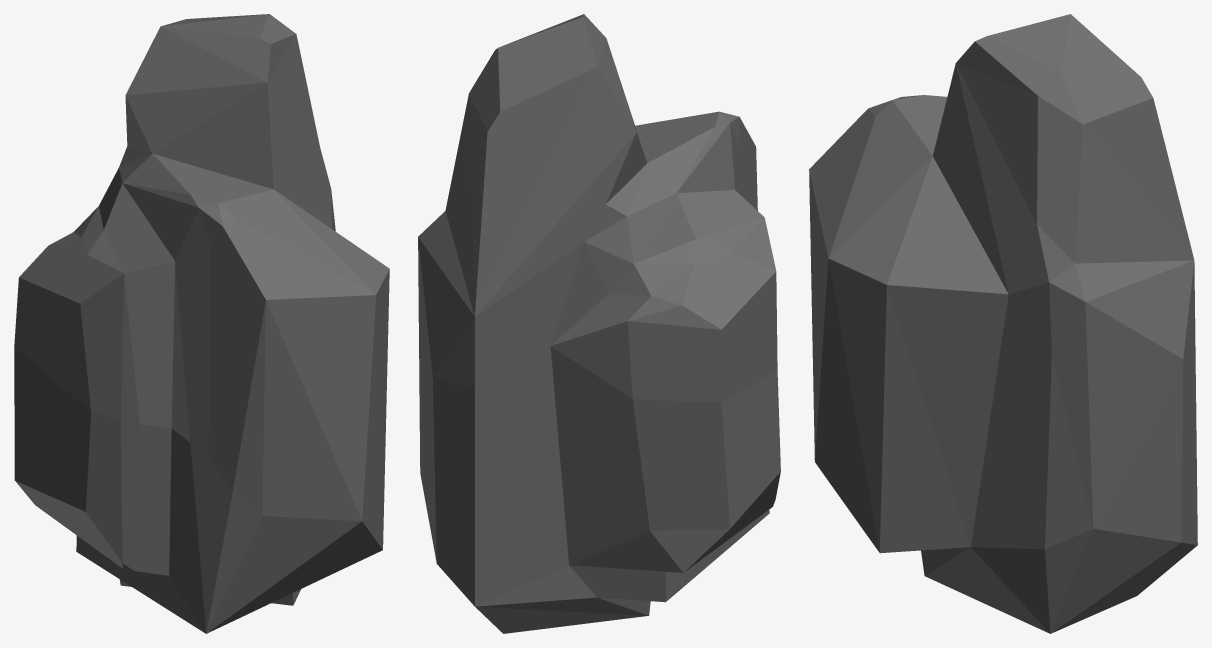
Rendered from rock__rock3_natural_medium.glb.
3 renders of one model, left to right at view 1: azimuth 30°, elevation 25°; view 2: azimuth 150°, elevation 25°; view 3: azimuth 270°, elevation 25°, orthographic.
Visible parts, largest first — view 1: rock3.natural.medium; view 2: rock3.natural.medium; view 3: rock3.natural.medium.
Boxes of the visible parts, x1,y1,x2,y2 form: rock3.natural.medium: [14, 14, 389, 633]; rock3.natural.medium: [418, 14, 780, 633]; rock3.natural.medium: [809, 14, 1197, 633].
Bounding box in the file's own units: 3.44 × 5.94 × 3.75.
Materials: 1 (1 with a texture image).
